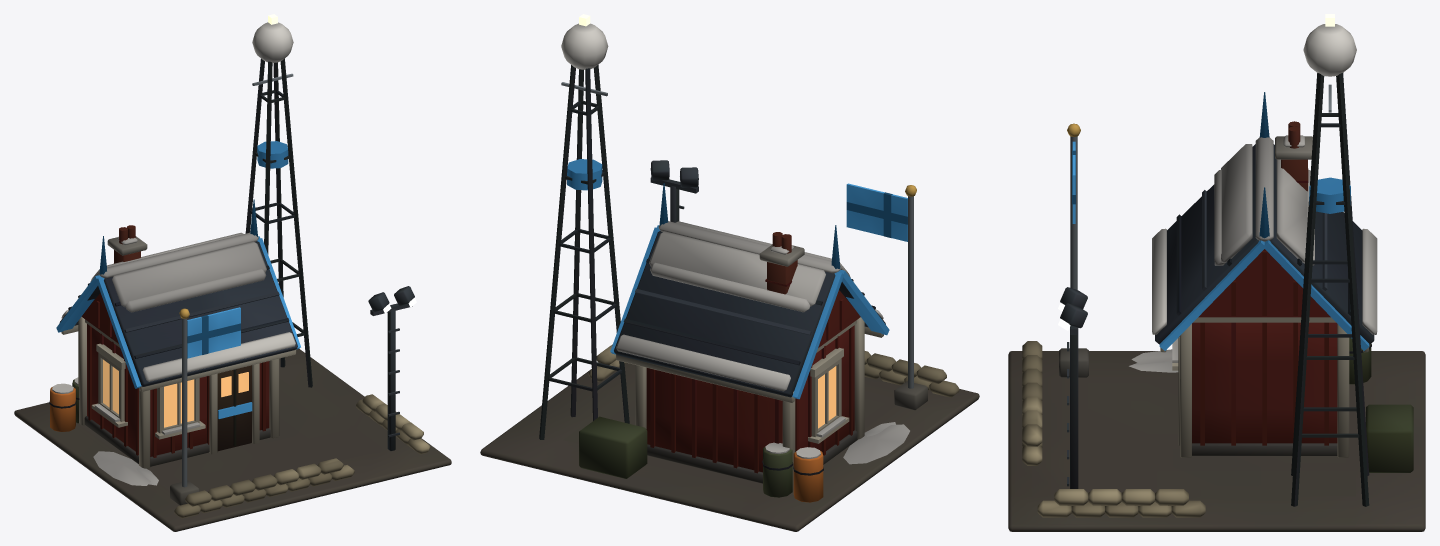
File: outpost.glb
3 renders of one model, left to right at view 1: azimuth 30°, elevation 25°; view 2: azimuth 150°, elevation 25°; view 3: azimuth 270°, elevation 25°, orthographic. The views are drawn at different scales.
Visible parts, largest first — view 1: outpost_root_matte, outpost_root_metal, outpost_root_trim, flag, outpost_root_glass; view 2: outpost_root_matte, outpost_root_metal, outpost_root_trim, flag, outpost_root_glass; view 3: outpost_root_matte, outpost_root_metal, outpost_root_trim.
Part boxes in pixels (x1=…): outpost_root_matte: x1=14, y1=22, x2=451, y2=531; outpost_root_metal: x1=179, y1=58, x2=414, y2=487; outpost_root_trim: x1=56, y1=141, x2=300, y2=418; flag: x1=187, y1=307, x2=240, y2=358; outpost_root_glass: x1=103, y1=359, x2=248, y2=427; outpost_root_matte: x1=480, y1=23, x2=979, y2=531; outpost_root_metal: x1=539, y1=65, x2=916, y2=439; outpost_root_trim: x1=567, y1=159, x2=889, y2=399; flag: x1=846, y1=183, x2=907, y2=241; outpost_root_glass: x1=818, y1=366, x2=836, y2=428; outpost_root_matte: x1=1008, y1=24, x2=1425, y2=531; outpost_root_metal: x1=1060, y1=73, x2=1369, y2=506; outpost_root_trim: x1=1159, y1=92, x2=1369, y2=350.
Bounding box in the file's own units: 7 × 8.93 × 7.
